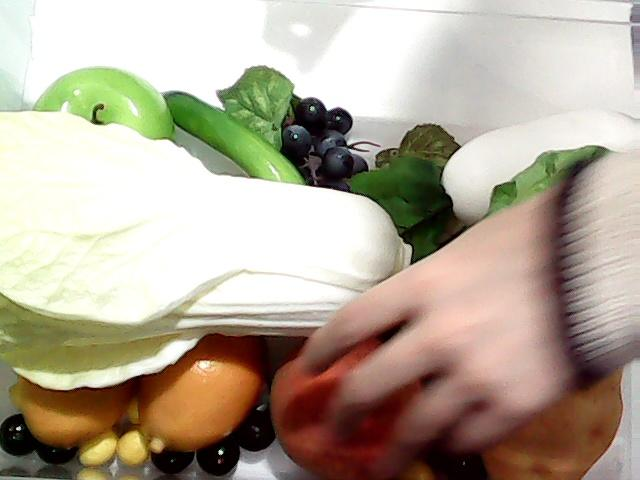apple: (32, 62, 176, 144)
cabbage: (485, 143, 633, 215)
grape: (287, 94, 369, 186)
lemon: (131, 340, 265, 452)
mango: (15, 364, 138, 448)
napa cabbage: (0, 114, 388, 390)
peach: (270, 335, 429, 480)
pepper: (155, 90, 305, 186)
potato: (478, 359, 625, 480)
radish: (346, 104, 640, 268)
